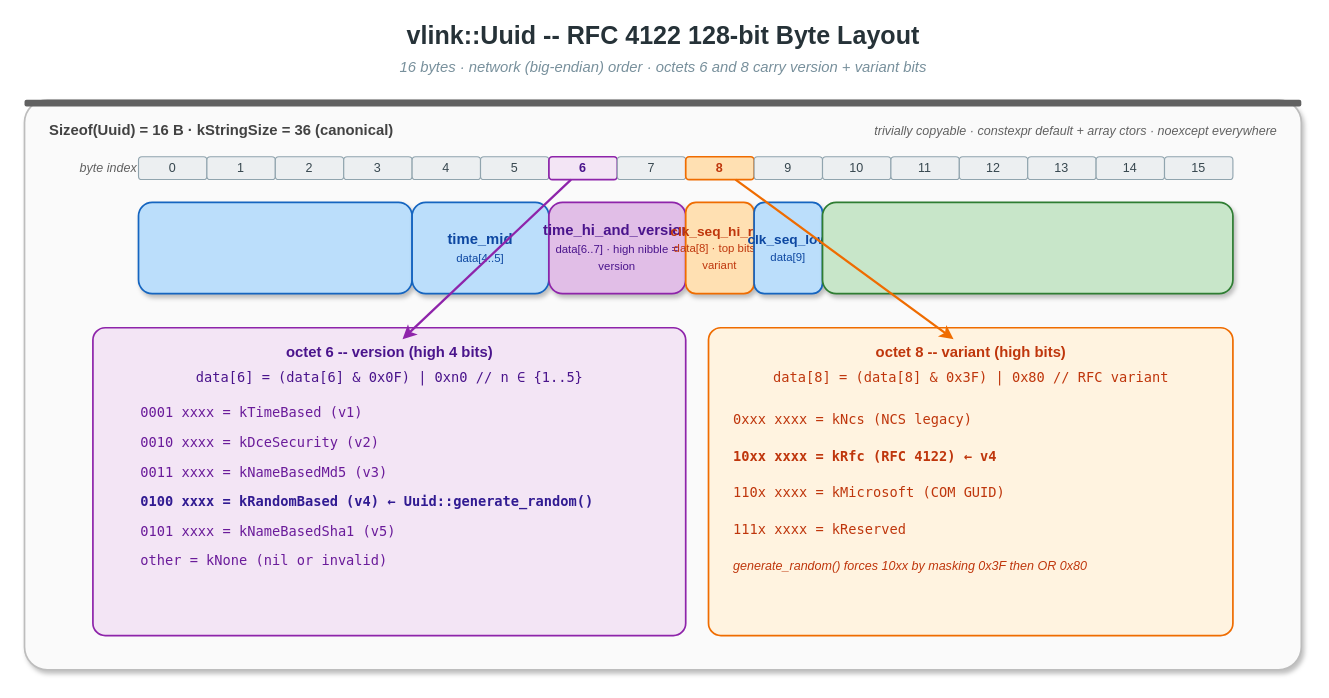
Image size: 1329x698. Some labels were removed from this diagram. The centre of each missing label's shape, as x and y in pixels:
"node data[10..15] · spatially unique ID" goes at point 1028,249.
"time_low data[0..3]" goes at point 276,249.
